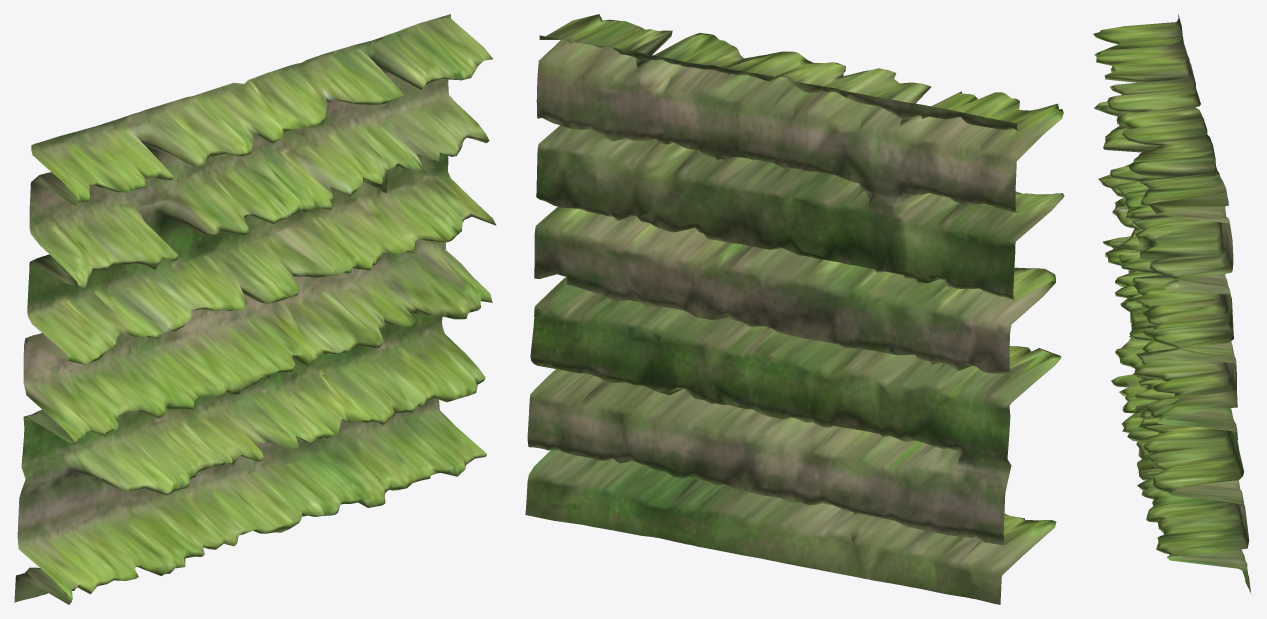
Rendered from map_30_20.obj.
3 views of the same model, side by side, from view 1: azimuth 30°, elevation 25°; view 2: azimuth 150°, elevation 25°; view 3: azimuth 270°, elevation 25° (orthographic). The views are drawn at different scales.
Size of the model in its own units: 10 by 10 by 3.59.
1 material, 1 textured.
